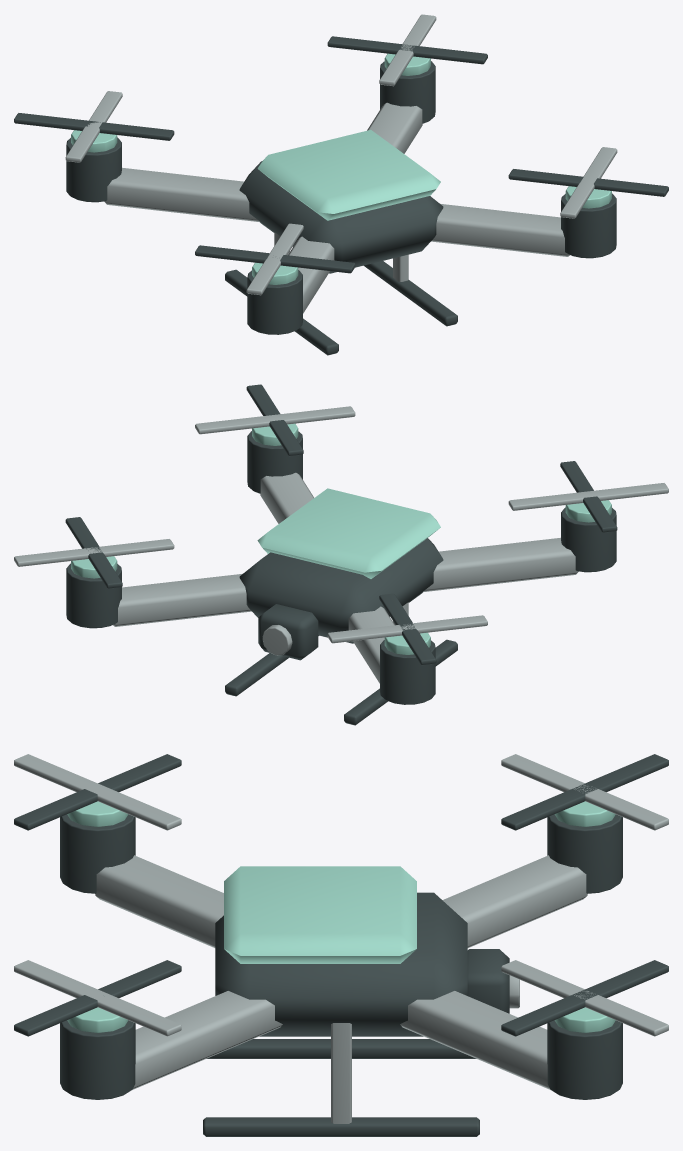
File: aerial-neutral.glb
The picture shows the model from 3 angles, top to bottom: view 1: azimuth 30°, elevation 25°; view 2: azimuth 150°, elevation 25°; view 3: azimuth 270°, elevation 25°; orthographic projection. The views are drawn at different scales.
Visible parts, largest first — view 1: aerial-chassis, aerial-mechanics, aerial-armor; view 2: aerial-chassis, aerial-mechanics, aerial-armor; view 3: aerial-chassis, aerial-mechanics, aerial-armor.
Boxes of the visible parts, x1,y1,x2,y2 form: aerial-chassis: (14,36,668,355); aerial-mechanics: (65,14,617,313); aerial-armor: (71,53,611,284); aerial-chassis: (65,384,617,725); aerial-mechanics: (14,406,668,683); aerial-armor: (71,423,611,654); aerial-chassis: (14,754,668,1136); aerial-mechanics: (14,754,668,1123); aerial-armor: (67,801,615,1032).
Size of the model in its own units: 0.7794 by 0.2665 by 0.7794.
